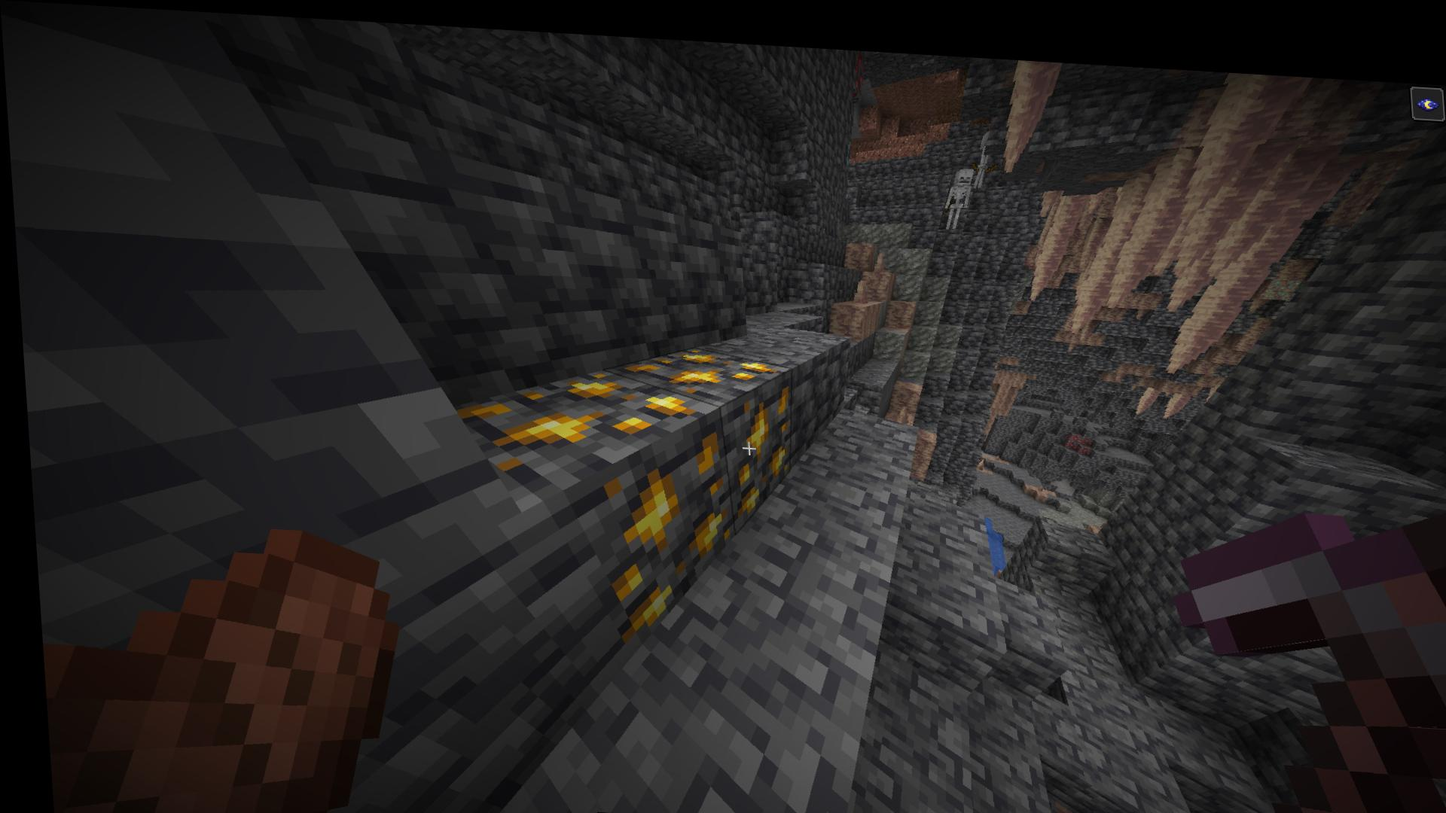gold ore: (471, 360, 723, 623), (721, 362, 797, 519), (627, 326, 771, 391)
redstone ore: (1060, 415, 1091, 452)
